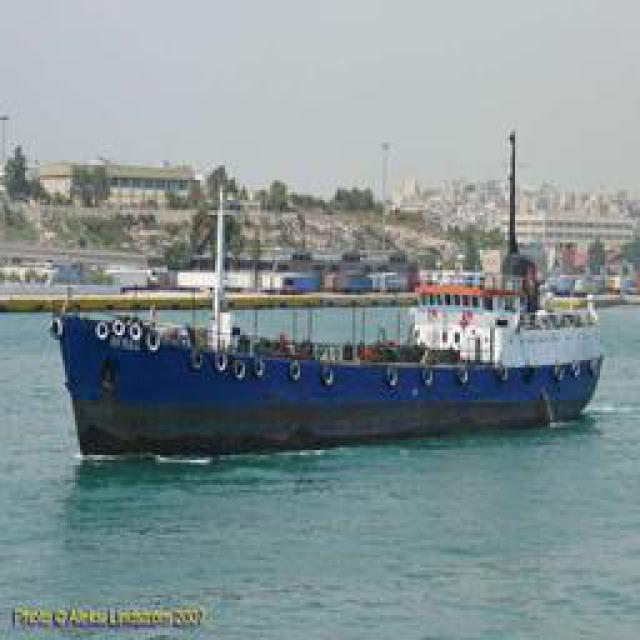Ship: (37, 276, 607, 459)
